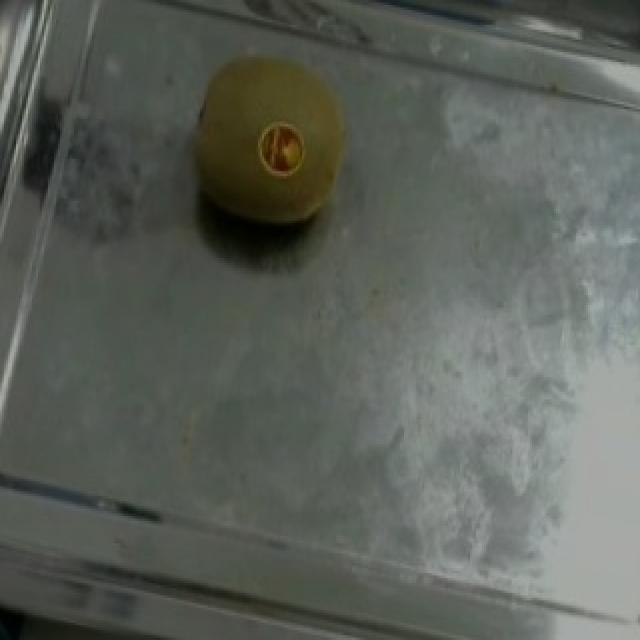Fruit: (162, 32, 380, 263)
